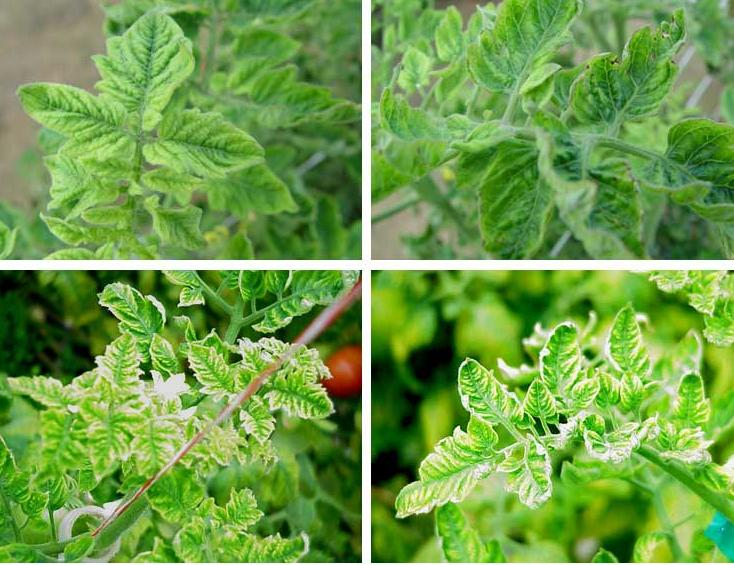Tomato leaf yellow virus: (563, 21, 690, 138), (614, 114, 734, 237), (102, 5, 200, 135), (455, 131, 556, 254), (389, 425, 519, 520), (476, 0, 586, 89), (9, 76, 129, 147), (154, 108, 285, 164), (485, 434, 559, 533), (450, 355, 527, 439), (539, 316, 601, 416), (80, 405, 138, 476), (607, 291, 649, 381), (267, 374, 336, 427), (0, 410, 33, 518), (153, 462, 208, 522), (183, 342, 235, 397), (94, 335, 139, 393), (218, 481, 264, 537), (672, 364, 706, 439), (519, 380, 567, 424), (149, 328, 180, 381), (616, 366, 648, 413)
